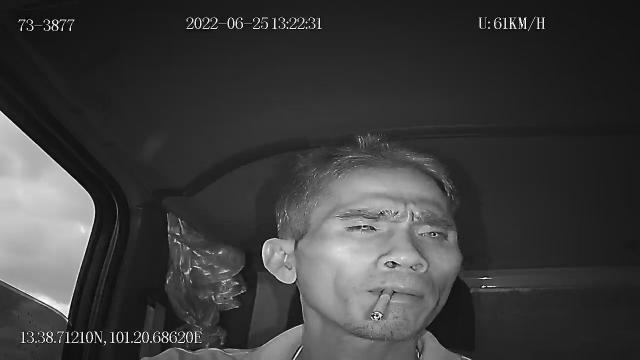SafeDriving: (339, 215, 386, 238), (409, 221, 454, 244)
Smoking: (371, 288, 394, 322)
